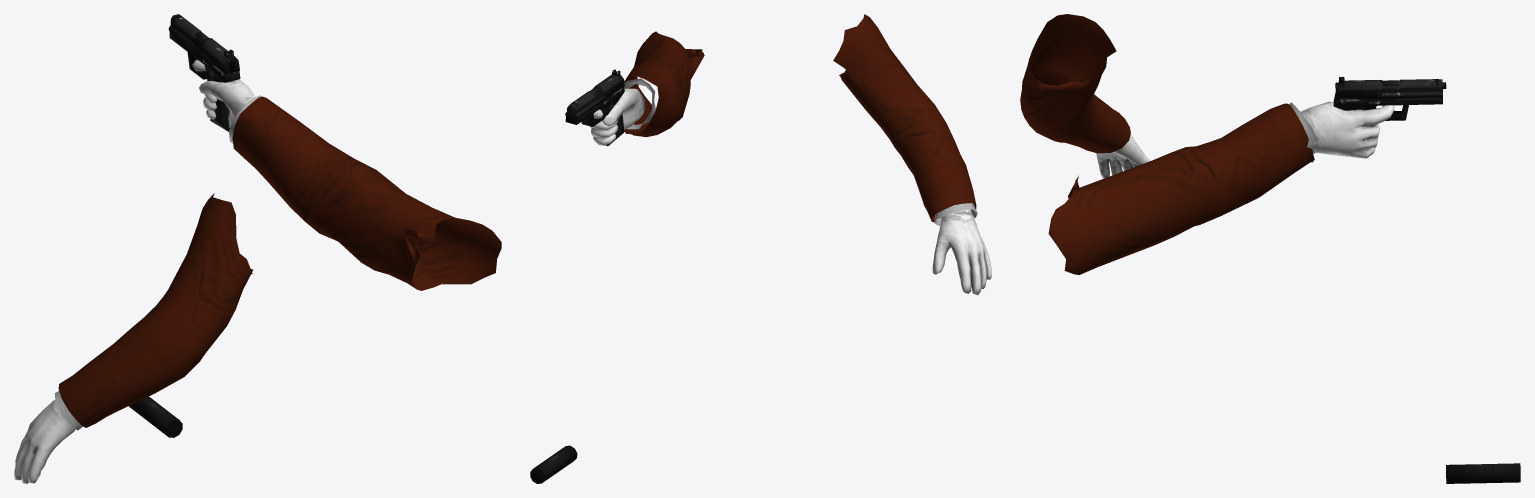
Rendered from frame_0010.obj.
3 views of the same model, side by side, from view 1: azimuth 30°, elevation 25°; view 2: azimuth 150°, elevation 25°; view 3: azimuth 270°, elevation 25° (orthographic). The views are drawn at different scales.
Parts seen in each view (by area): view 1: PlayerModelMerged.001_PlayerModelMerged, glock_reference.001; view 2: PlayerModelMerged.001_PlayerModelMerged, glock_reference.001; view 3: PlayerModelMerged.001_PlayerModelMerged, glock_reference.001.
Part boxes in pixels (bbox=[...]): PlayerModelMerged.001_PlayerModelMerged: bbox=[14, 59, 501, 483]; glock_reference.001: bbox=[129, 14, 240, 437]; PlayerModelMerged.001_PlayerModelMerged: bbox=[590, 14, 991, 295]; glock_reference.001: bbox=[530, 69, 624, 483]; PlayerModelMerged.001_PlayerModelMerged: bbox=[1020, 14, 1394, 274]; glock_reference.001: bbox=[1333, 76, 1520, 483].
Bounding box in the file's own units: 1.14 × 1.04 × 1.17.
